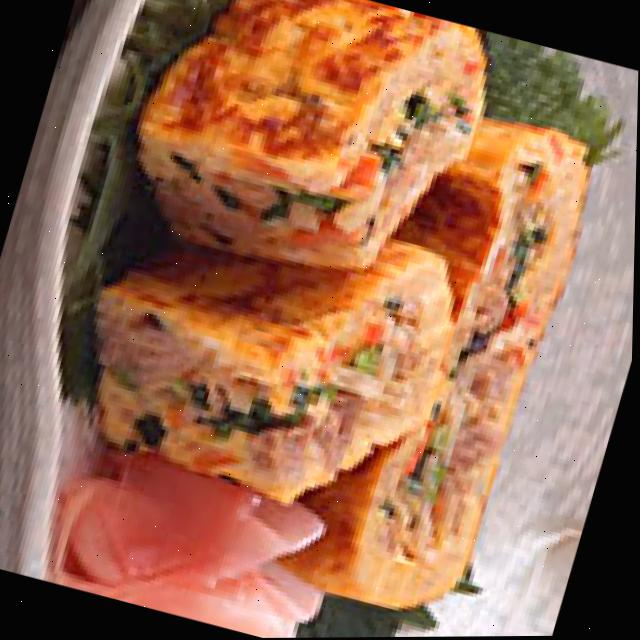鸡蛋料理: (22, 0, 635, 640)
